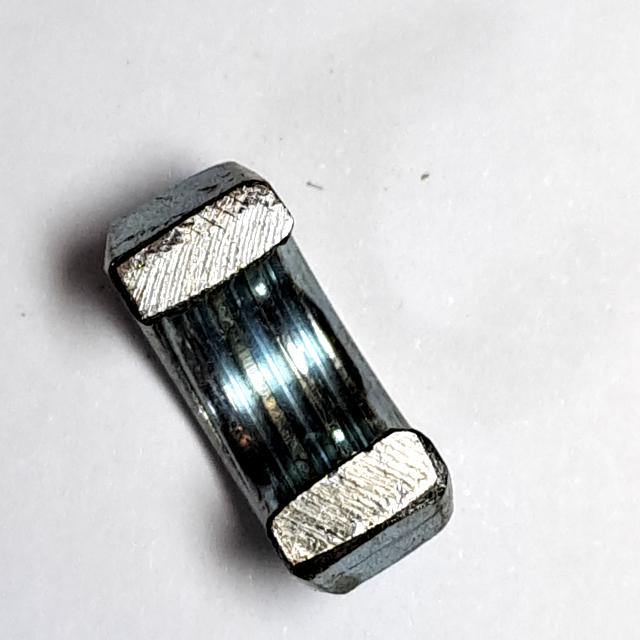Side-Fracture: (85, 147, 475, 607)
